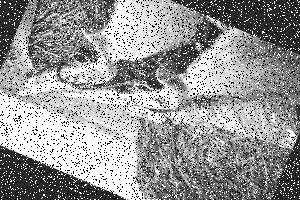shotgun: (60, 25, 300, 110), (14, 0, 214, 96), (101, 99, 300, 150)
